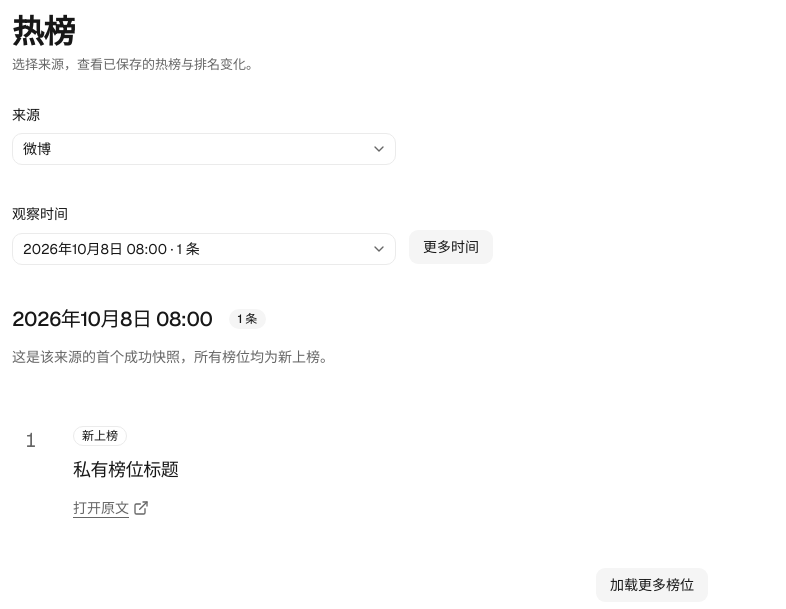
Test: handles history pagination failure 401 without retaining revoked private rows
Expected: the heading "私有榜位标题" is shown, [73, 458, 178, 480]
Click the button "更多时间".
click(451, 246)  # box [408, 228, 494, 264]
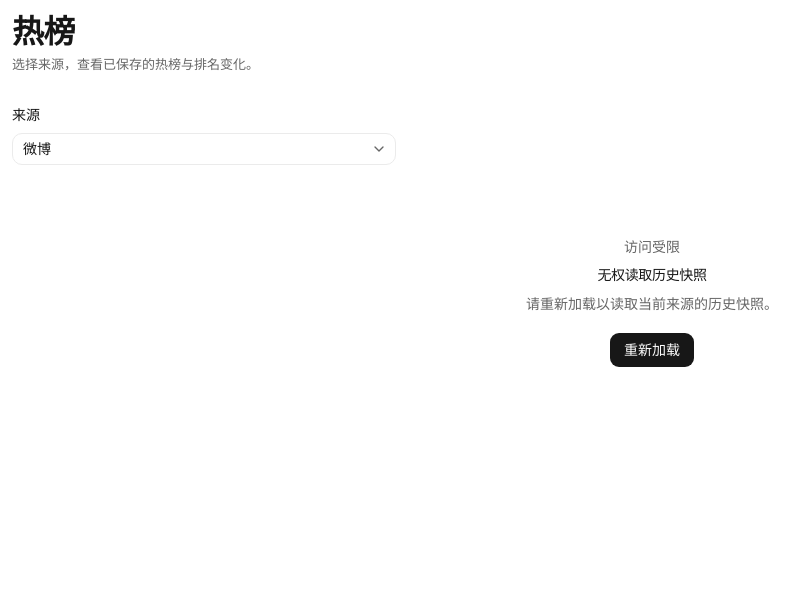
Now the text "无权读取历史快照" is shown, box [597, 265, 707, 285]
Now the heading "私有榜位标题" is gone
Now the label "观察时间" is gone
